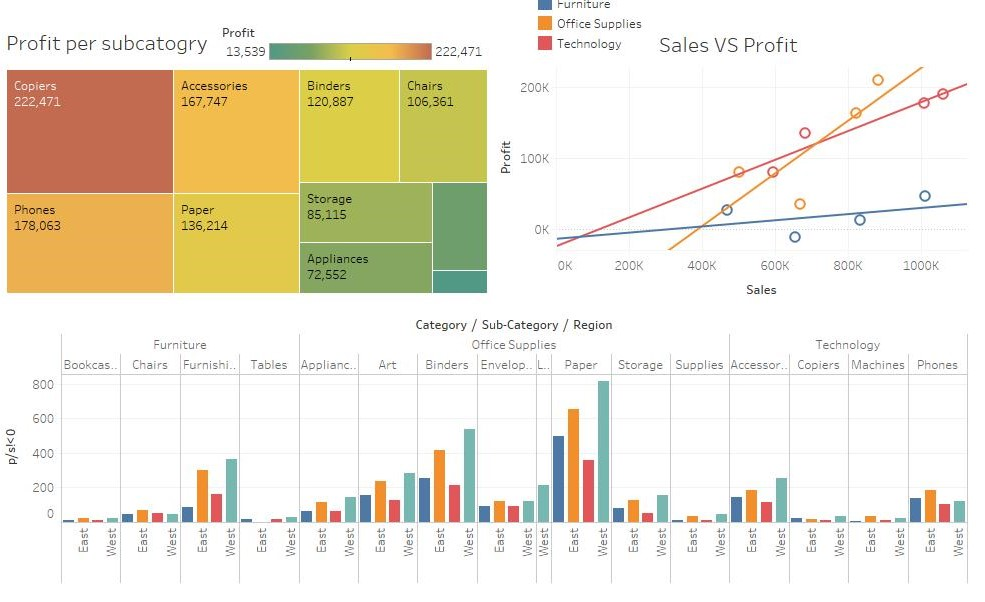

The dashboard page shown, as its layout file describes it:
{"tool":"tableau","page":{"name":"Dashboard 1","canvas":[1000,800],"ordinal":0},"visuals":[{"type":"worksheet","title":"Profit per subcatogry","mark":"Automatic","param":"[federated.0c9r7m90i4pmd1192lcby050dnud].[sum:Profit:qk]","box":[229,20,265,76]},{"type":"worksheet","title":"Profit per subcatogry","mark":"Automatic","box":[9,22,489,298]},{"type":"worksheet","title":"Sales & profit of categories per region","mark":"Automatic","rows":["Profit"],"cols":["Sales"],"box":[497,24,477,281]},{"type":"worksheet","title":"Calc Fields","mark":"Automatic","rows":["Calculation_810085037206462466"],"cols":["Category","Sub-Category","Region"],"box":[2,299,973,284]}]}

Visuals, with their boxes on the page's 1000x800 design canvas (x1, y1, x2, y2). These are canvas units, not pixel positions in the 985x602 screenshot, which may show the page scaled, cropped or inside an application window:
"Profit per subcatogry" worksheet: 229:20:494:96
"Profit per subcatogry" worksheet: 9:22:498:320
"Sales & profit of categories per region" worksheet: 497:24:974:305
"Calc Fields" worksheet: 2:299:975:583
